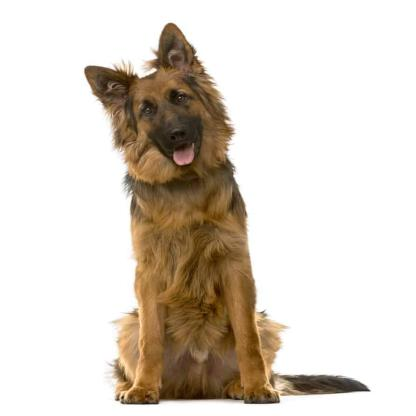german shepherd: (75, 26, 292, 404)
